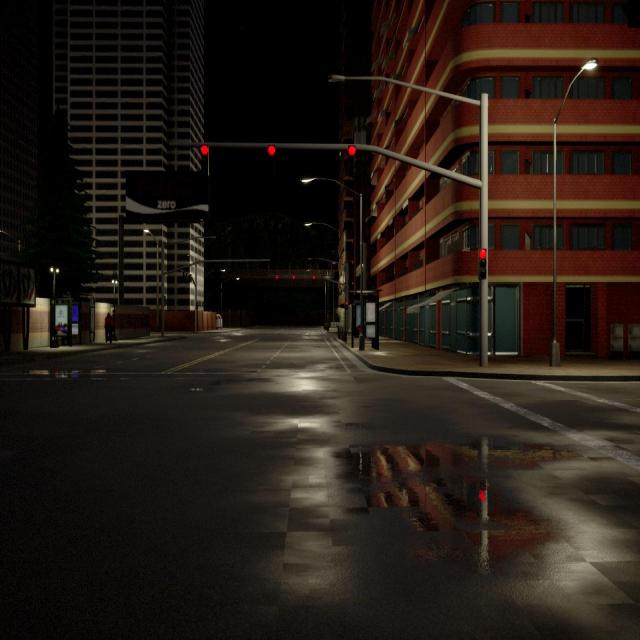Pedestrian: (104, 312, 114, 345)
Vehicle: (216, 314, 223, 330)
traffic_light: (478, 248, 487, 280), (348, 145, 356, 178), (200, 144, 209, 172), (268, 144, 276, 172), (188, 274, 192, 283), (163, 296, 166, 307), (345, 302, 348, 310), (312, 276, 316, 280), (183, 271, 185, 279), (185, 272, 187, 280), (196, 302, 198, 310), (292, 275, 295, 279), (276, 275, 278, 279)
